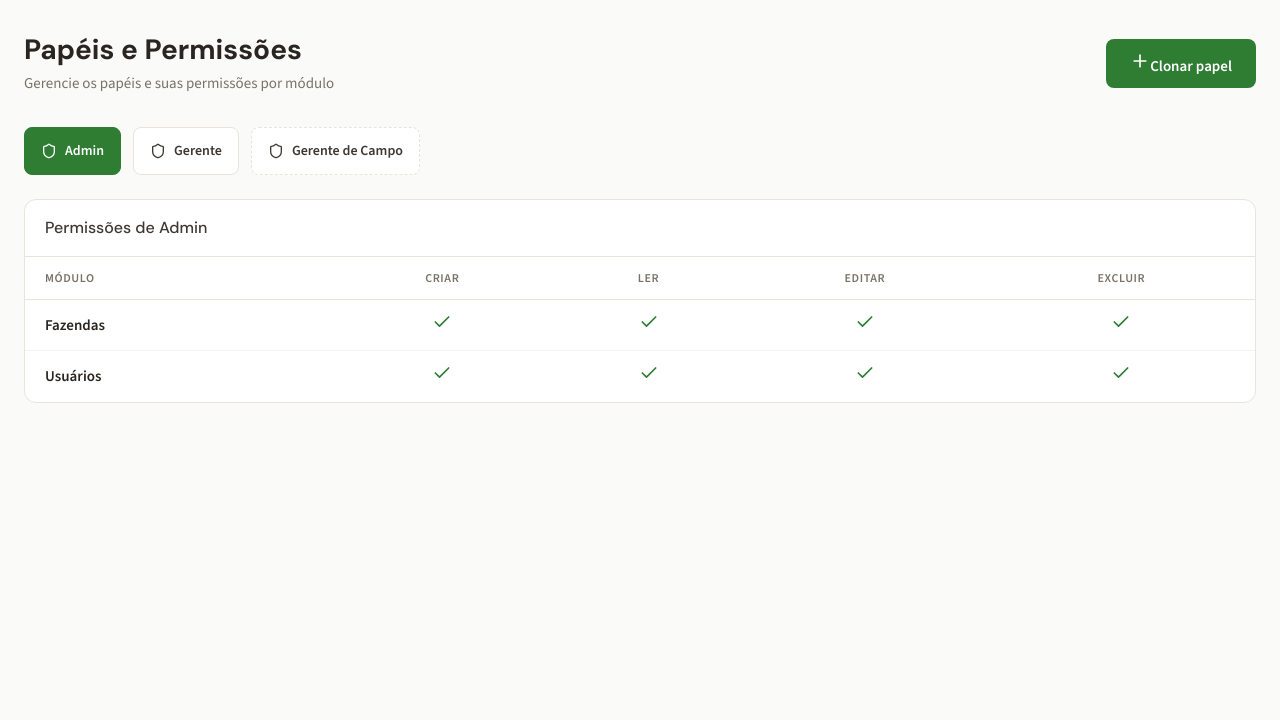
Test: RolesPage › edit modal: fields pre-filled and checkboxes reflect current permissions
The width and height of the screenshot is (1280, 720).
expect the heading "Papéis e Permissões" is shown: met, box x1=24 y1=32 x2=334 y2=68
Click the button "Gerente de Campo": (335, 151) x1=251 y1=127 x2=420 y2=175
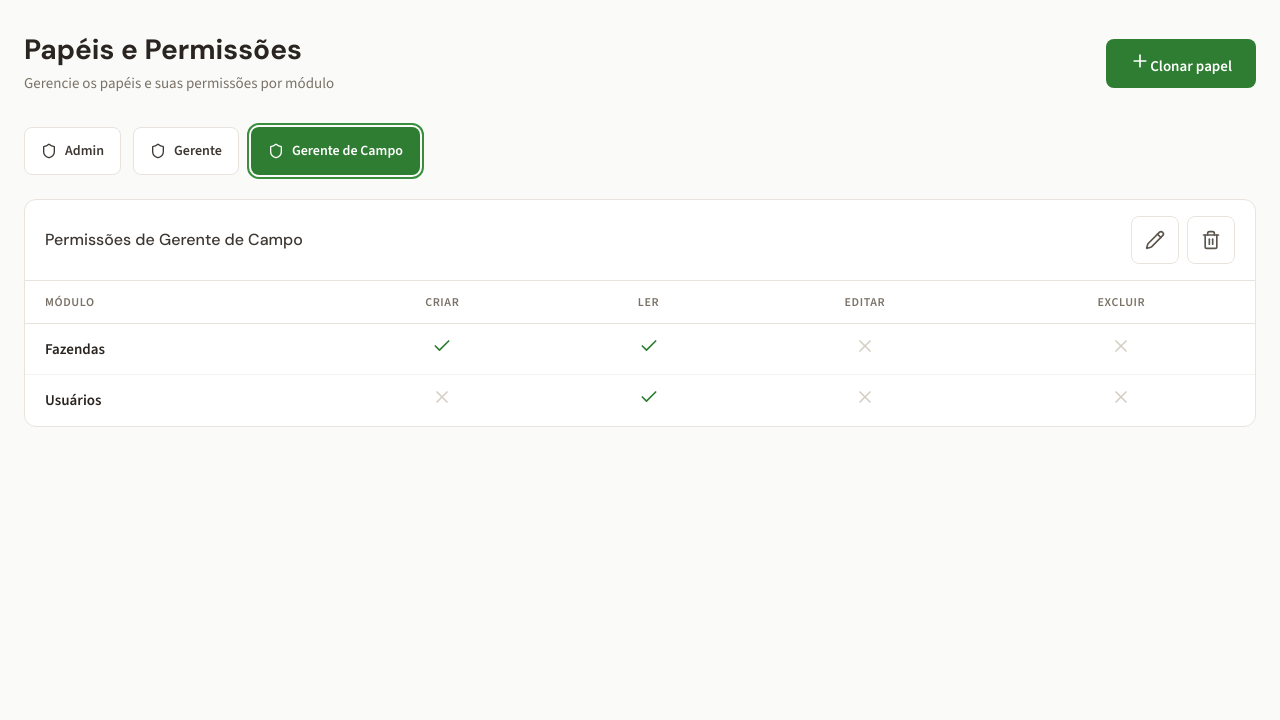
Click the button named "Editar papel": (1155, 240) x1=1131 y1=216 x2=1179 y2=264
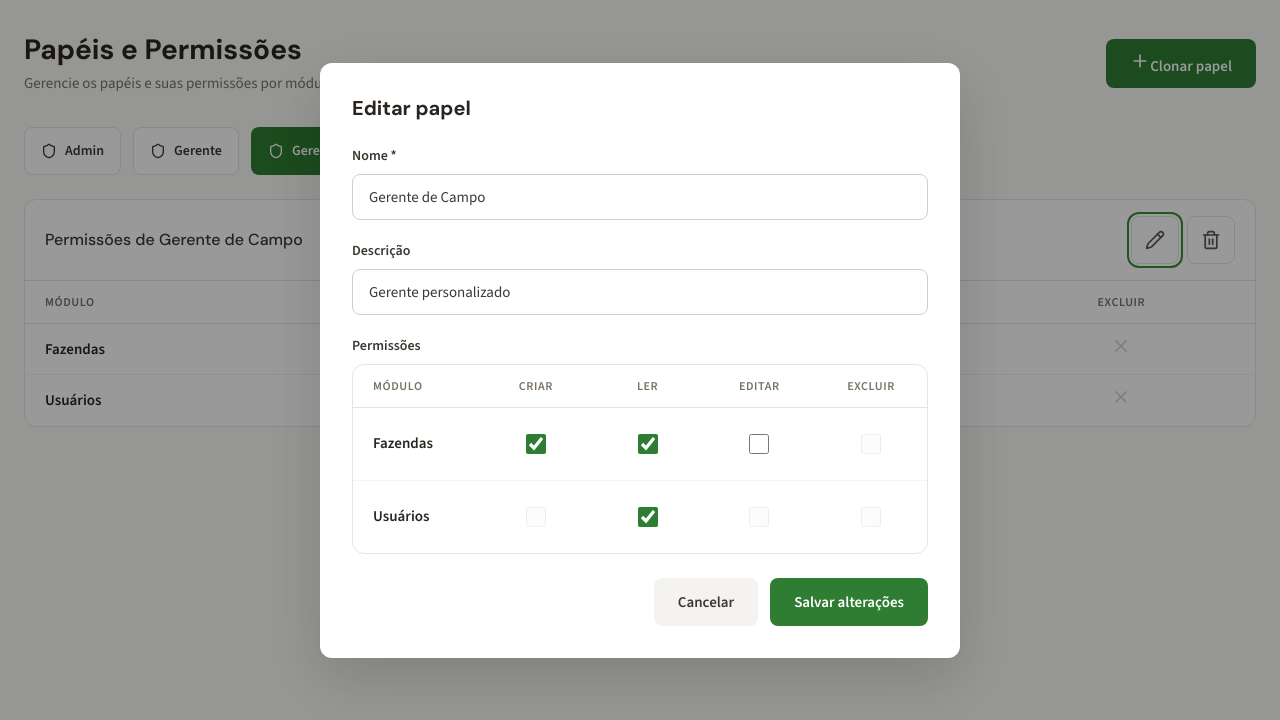
expect the field labelled "Nome *" holds "Gerente de Campo": met, box x1=352 y1=174 x2=928 y2=220
expect the field labelled "Descrição" holds "Gerente personalizado": met, box x1=352 y1=268 x2=928 y2=314
expect the checkbox named "Fazendas — Criar" is checked: met, box x1=526 y1=434 x2=546 y2=454
